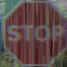Stop: (2, 4, 63, 57)
